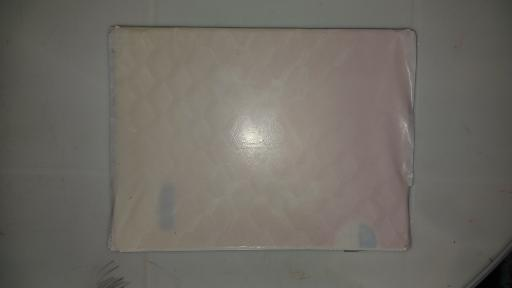notebook: (107, 27, 417, 253)
